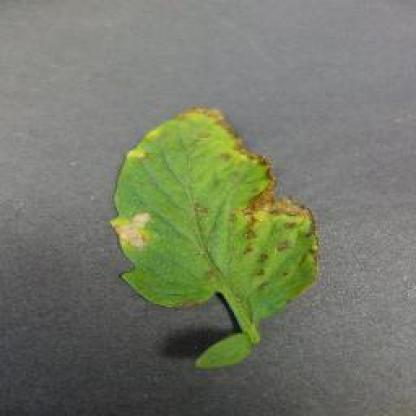bad leaf: (121, 108, 318, 293)
